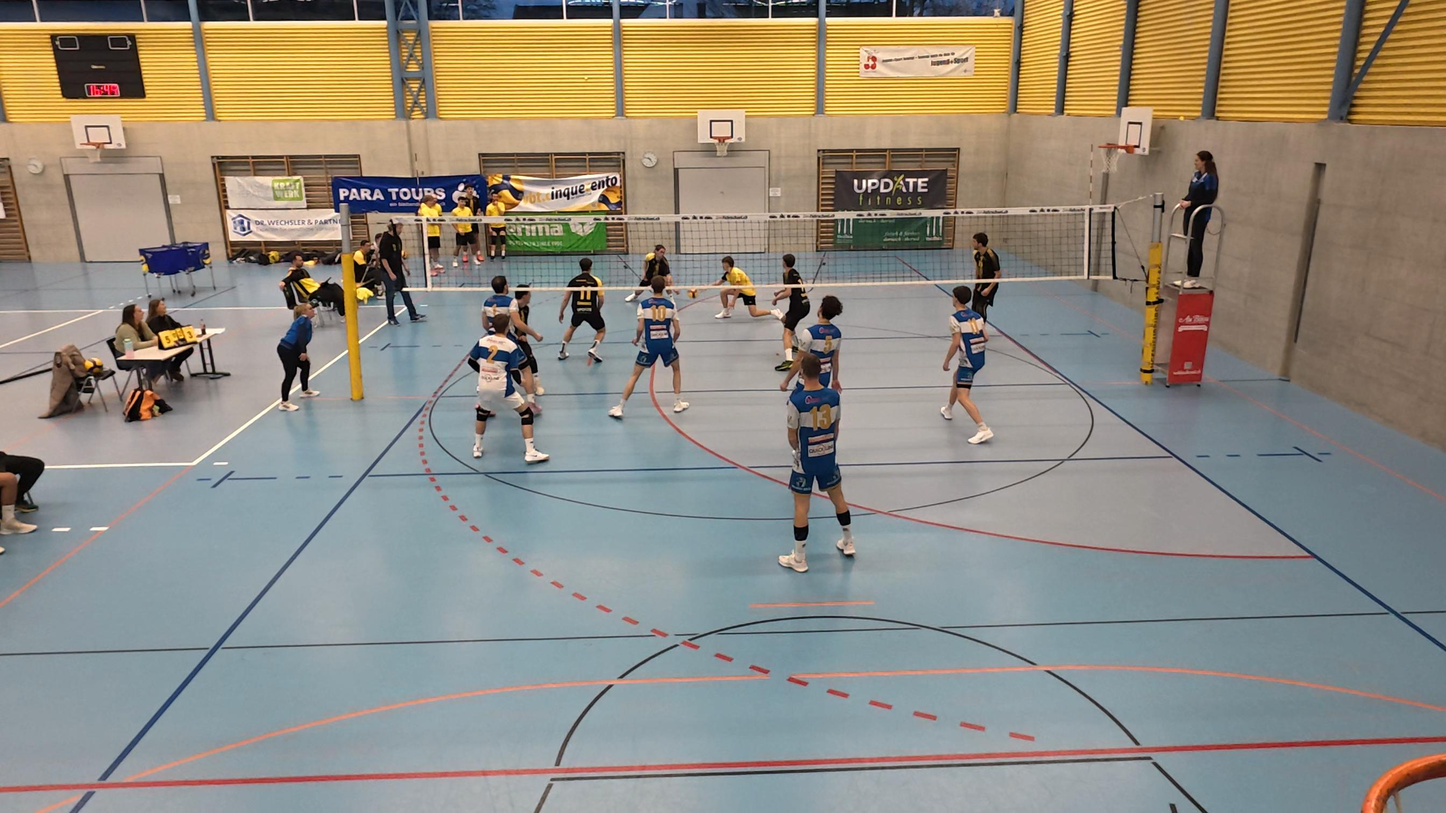Dig: (703, 255, 776, 323)
Player: (779, 353, 853, 573), (460, 319, 549, 463), (607, 289, 689, 419), (940, 288, 995, 444), (486, 275, 547, 399), (784, 293, 841, 402), (555, 258, 612, 363), (767, 253, 808, 370), (973, 232, 1004, 329), (634, 239, 677, 308)
ball: (687, 284, 701, 301)
